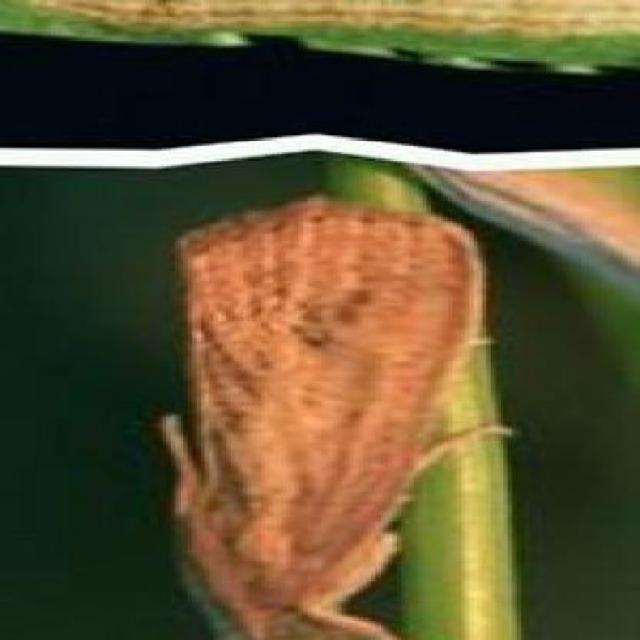stem-borer: (150, 191, 513, 640)
